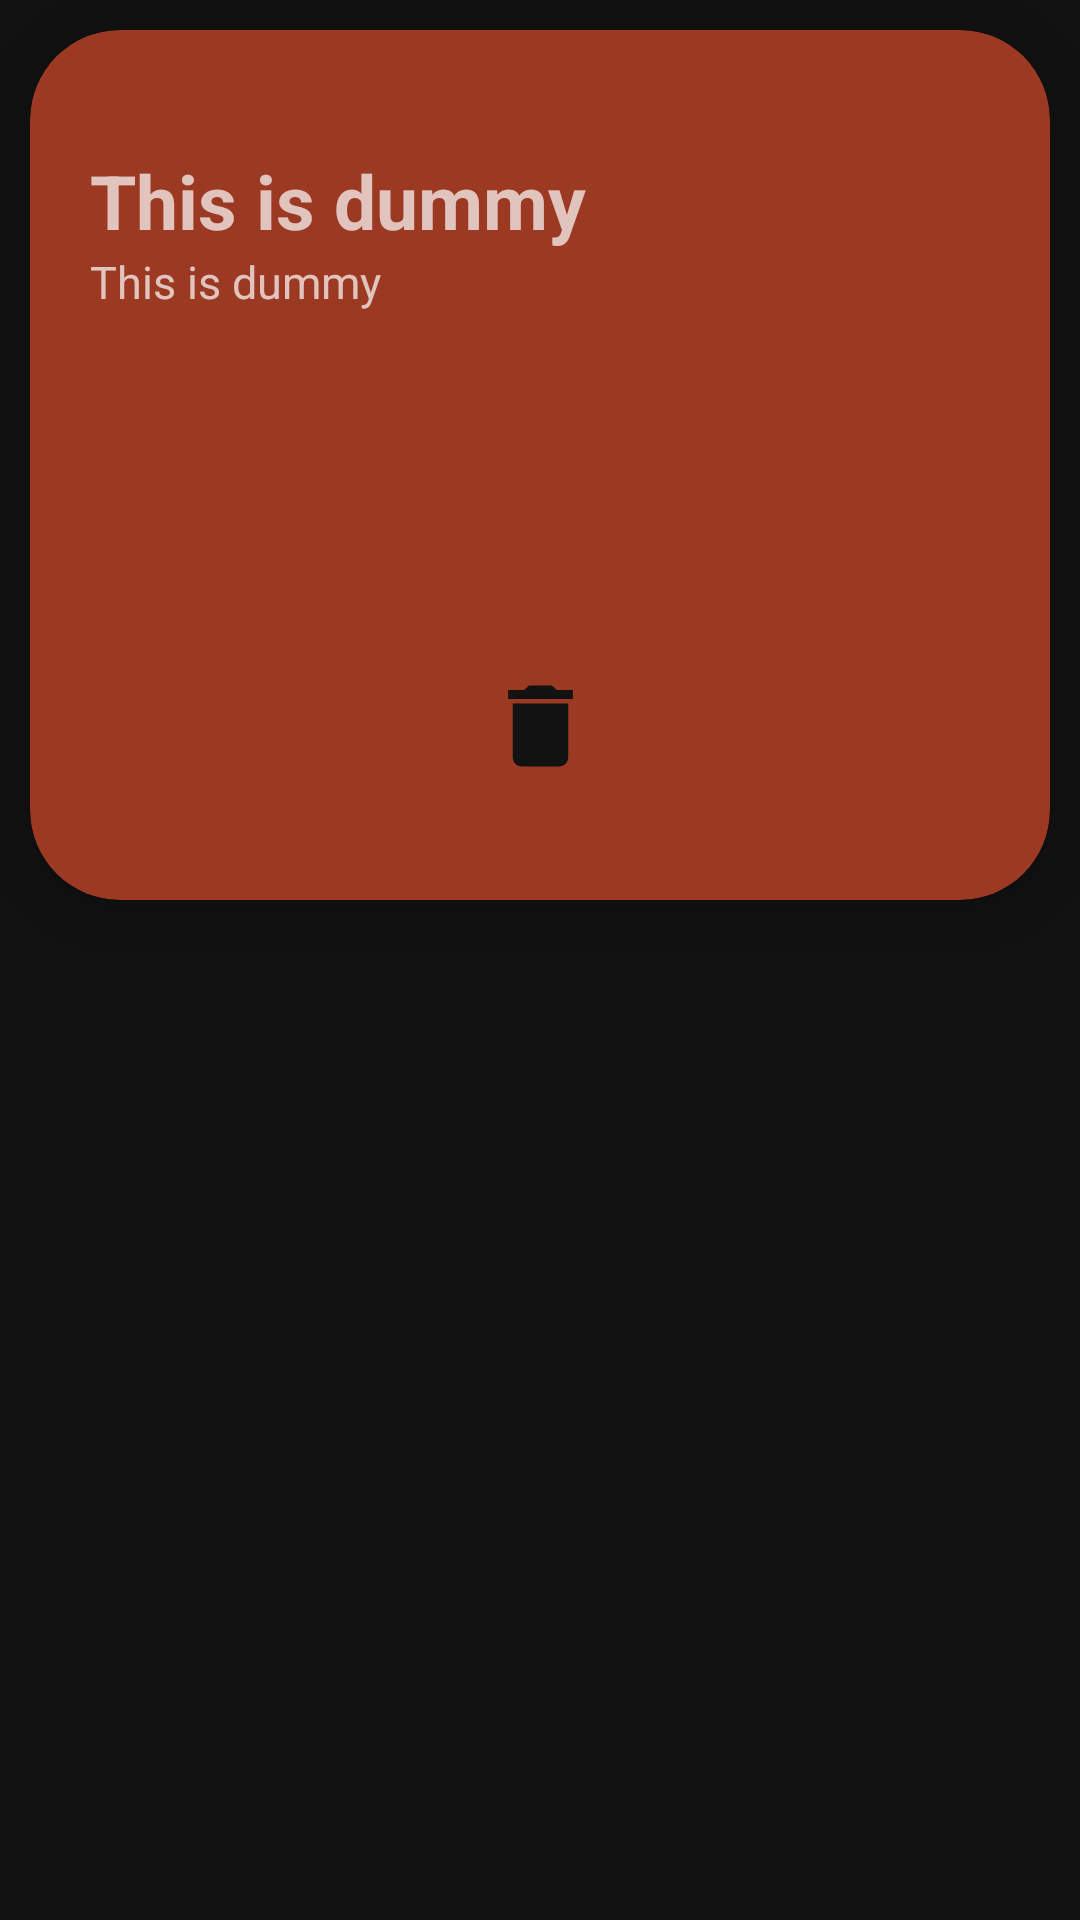

Named icons in this screenshot (1080×1920) and their bounding boxes, (x1=x1, y1=y1, x2=x2, y2=y2):
delete: (x1=508, y1=685, x2=573, y2=767)
